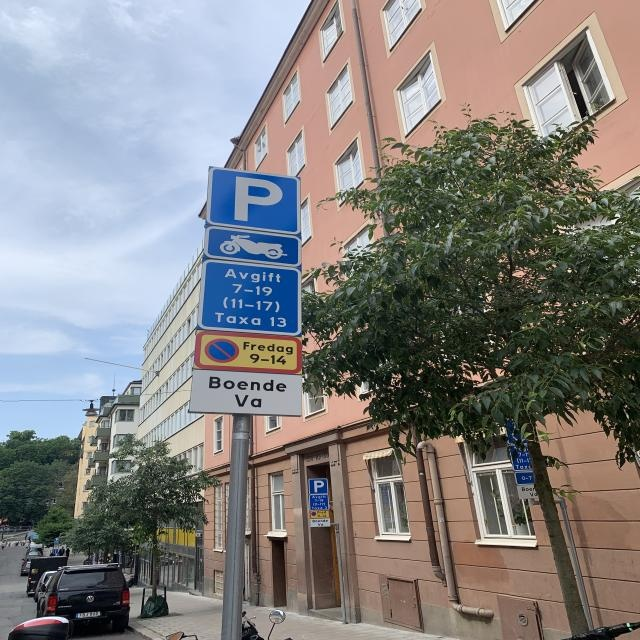P-skylt: (206, 164, 306, 237)
